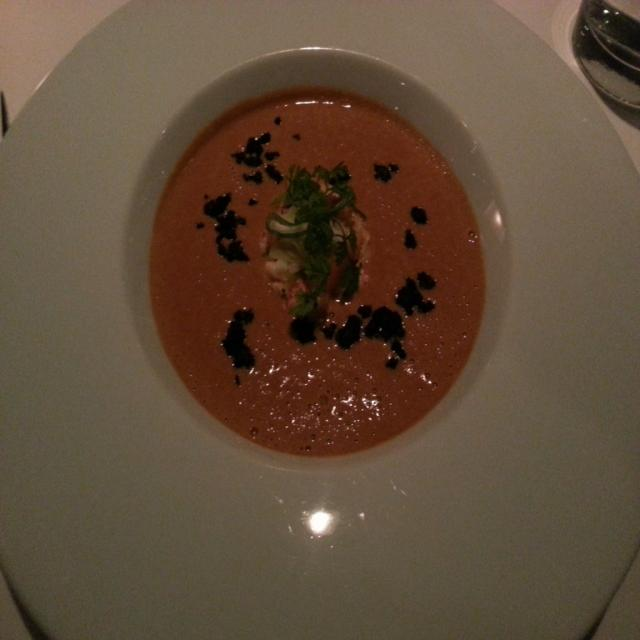non-organic waste: (0, 0, 628, 640)
